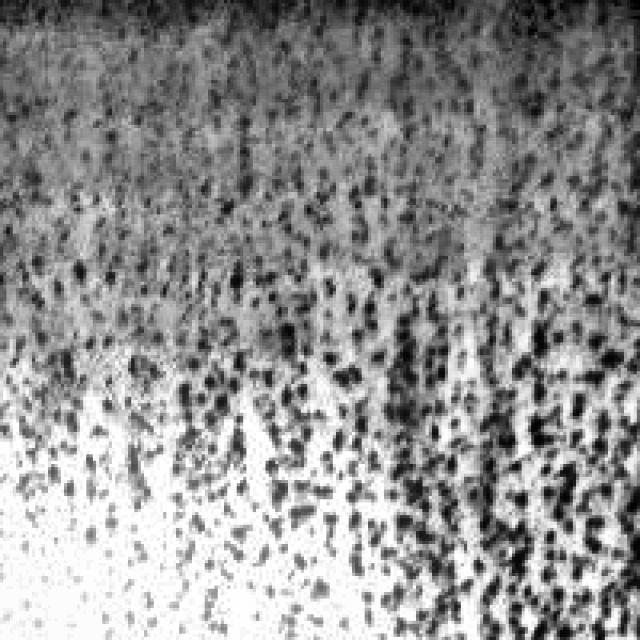Rolled_in_Scale: (35, 22, 630, 630)
